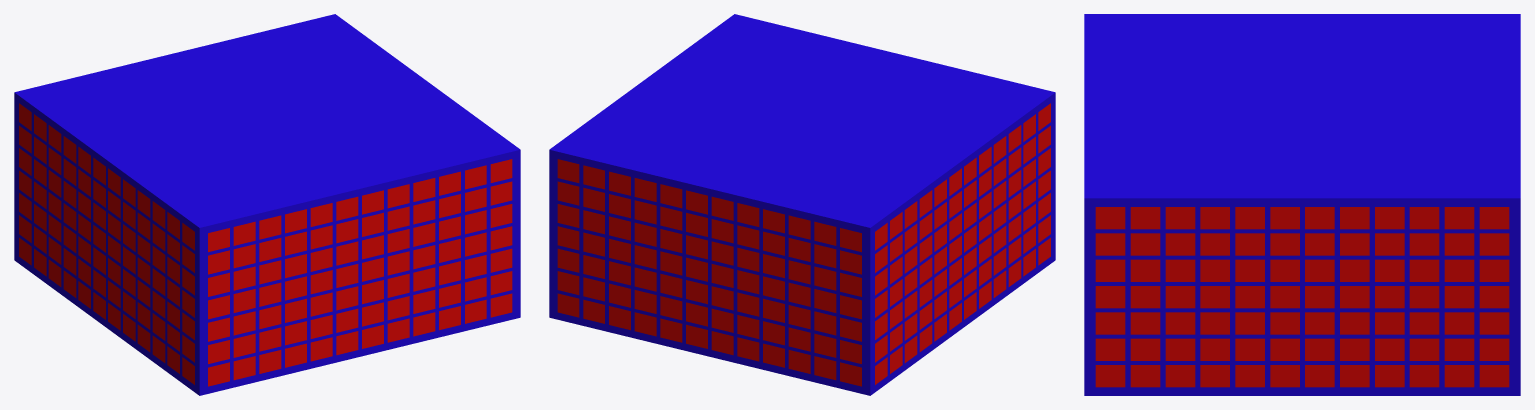
The model's file is BuildingTemplate3.fbx.
3 renders of one model, left to right at view 1: azimuth 30°, elevation 25°; view 2: azimuth 150°, elevation 25°; view 3: azimuth 270°, elevation 25°, orthographic. The views are drawn at different scales.
Parts seen in each view (by area): view 1: ExtraLargeCube; view 2: ExtraLargeCube; view 3: ExtraLargeCube.
Part boxes in pixels (left/top/right/bottom): ExtraLargeCube: left=14, top=14, right=520, bottom=395; ExtraLargeCube: left=549, top=14, right=1055, bottom=395; ExtraLargeCube: left=1084, top=14, right=1520, bottom=395.
Bounding box in the file's own units: 9500 × 4750 × 9500.
